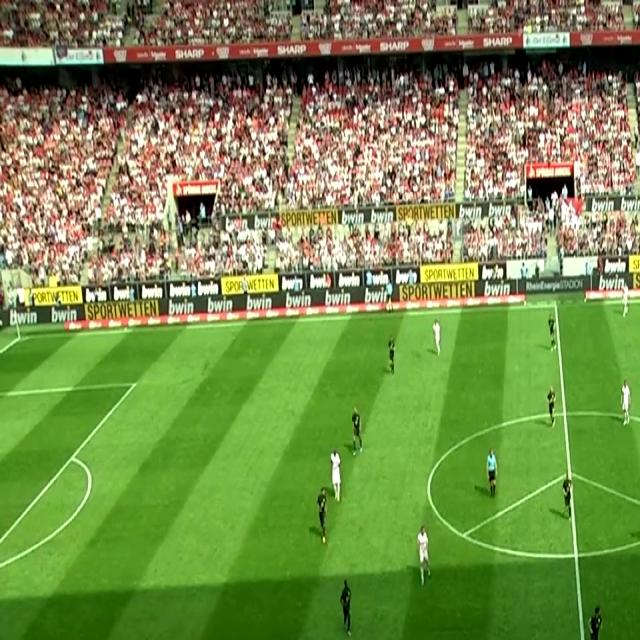referee: (478, 442, 502, 504)
soccer-player: (411, 511, 436, 596), (332, 572, 361, 640), (313, 483, 333, 549), (582, 598, 604, 640), (330, 442, 345, 501), (560, 467, 576, 522), (617, 374, 633, 428), (350, 399, 365, 456), (430, 316, 446, 362), (544, 303, 558, 353), (546, 379, 558, 431), (386, 331, 398, 378)
